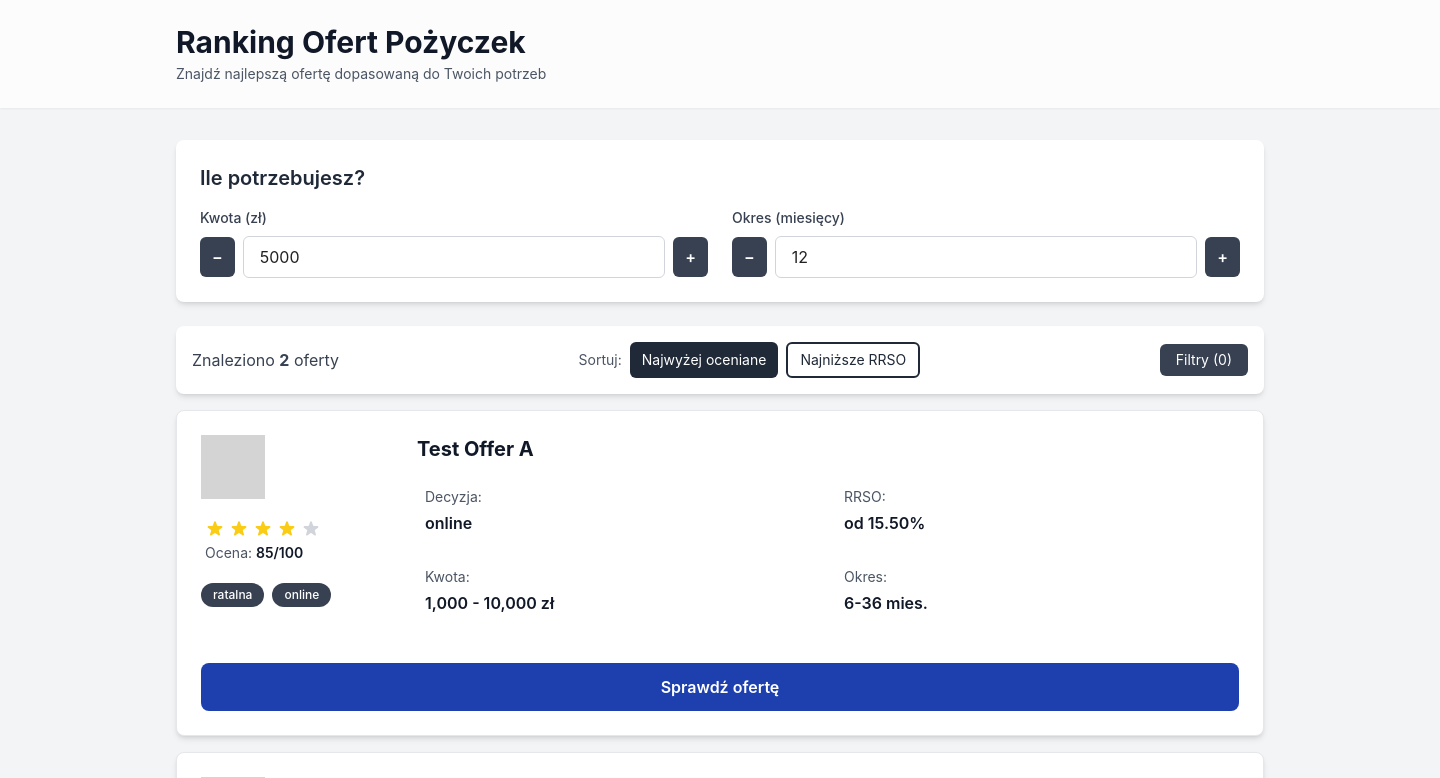
App Integration Tests › Filtering Integration › should filter offers when amount changes
Expected: the heading "Test Offer A" is shown, x1=417 y1=437 x2=534 y2=461
Replace the text in the number field labelled "Kwota (zł)" with "500" at x=454, y=257, box x1=243 y1=236 x2=665 y2=278
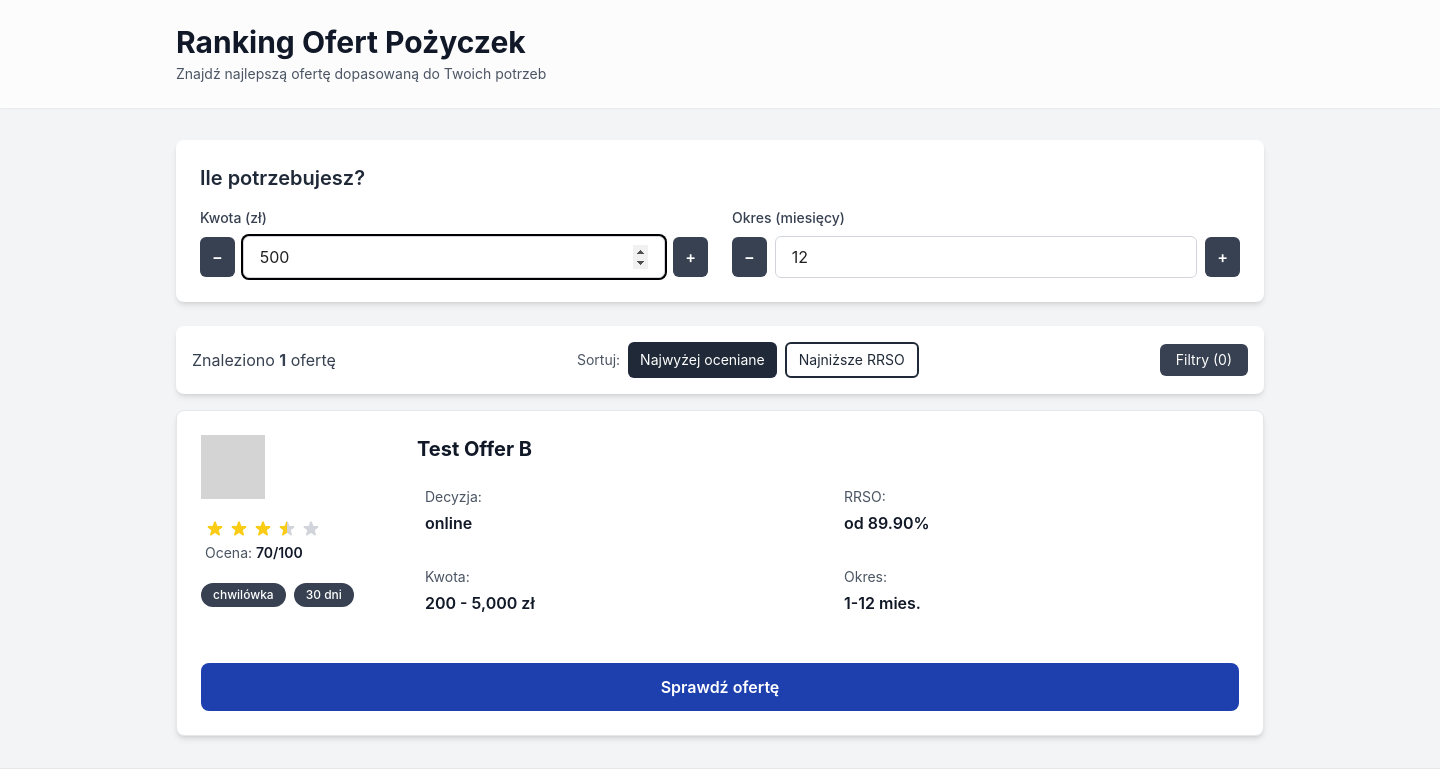
Expected: the heading "Test Offer A" is not shown
Now the heading "Test Offer B" is shown, box x1=417 y1=437 x2=532 y2=461
